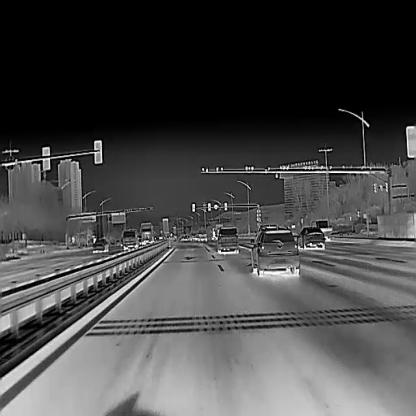bus: (140, 222, 154, 244)
car: (251, 227, 298, 274), (216, 225, 238, 254), (296, 226, 324, 248), (254, 224, 279, 243), (93, 238, 109, 251), (198, 229, 208, 241)
truck: (310, 219, 332, 242), (122, 228, 138, 249)
